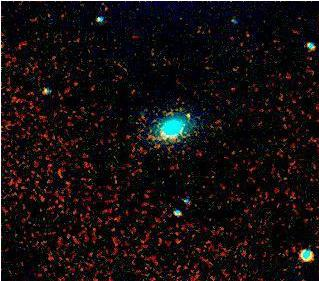star: (172, 100, 202, 130)
